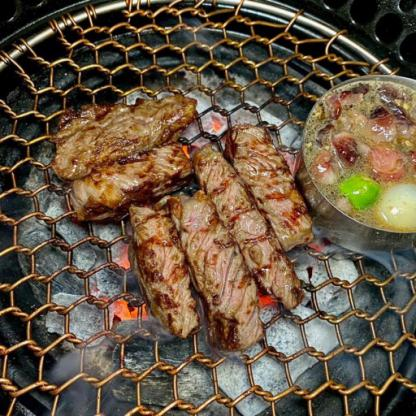Carne: (180, 136, 298, 312), (162, 182, 266, 354), (40, 94, 194, 182), (125, 202, 201, 344), (222, 124, 311, 244), (64, 141, 197, 220)
